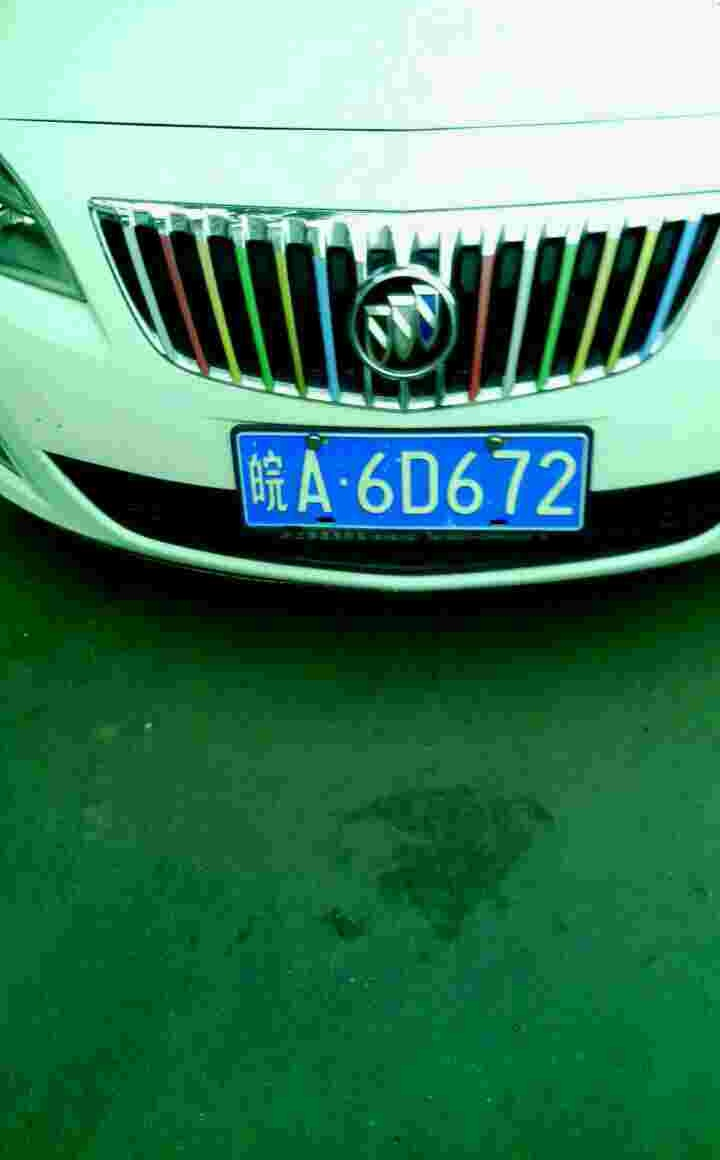license_plate: (234, 427, 580, 539)
